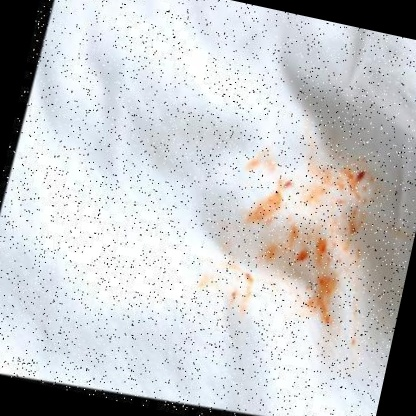kimchi: (185, 111, 416, 348), (294, 259, 344, 327), (311, 225, 339, 264), (350, 157, 380, 190), (290, 236, 314, 272), (238, 267, 254, 287), (280, 178, 296, 192)
